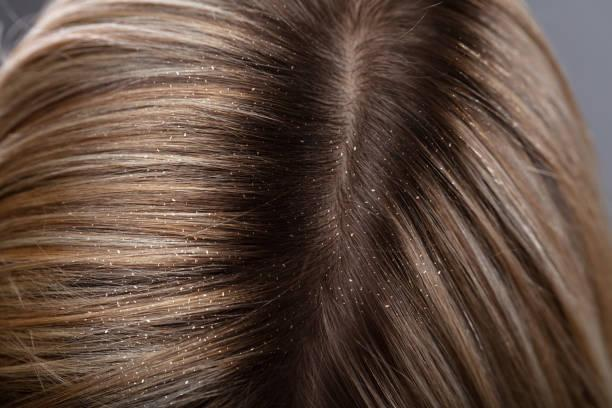dandruff: (389, 236, 446, 292), (317, 268, 377, 313), (319, 129, 373, 170), (171, 271, 235, 304), (157, 111, 204, 149), (236, 135, 263, 178), (321, 205, 343, 238), (123, 264, 141, 304), (160, 191, 183, 208), (433, 130, 456, 146), (244, 84, 261, 97)
